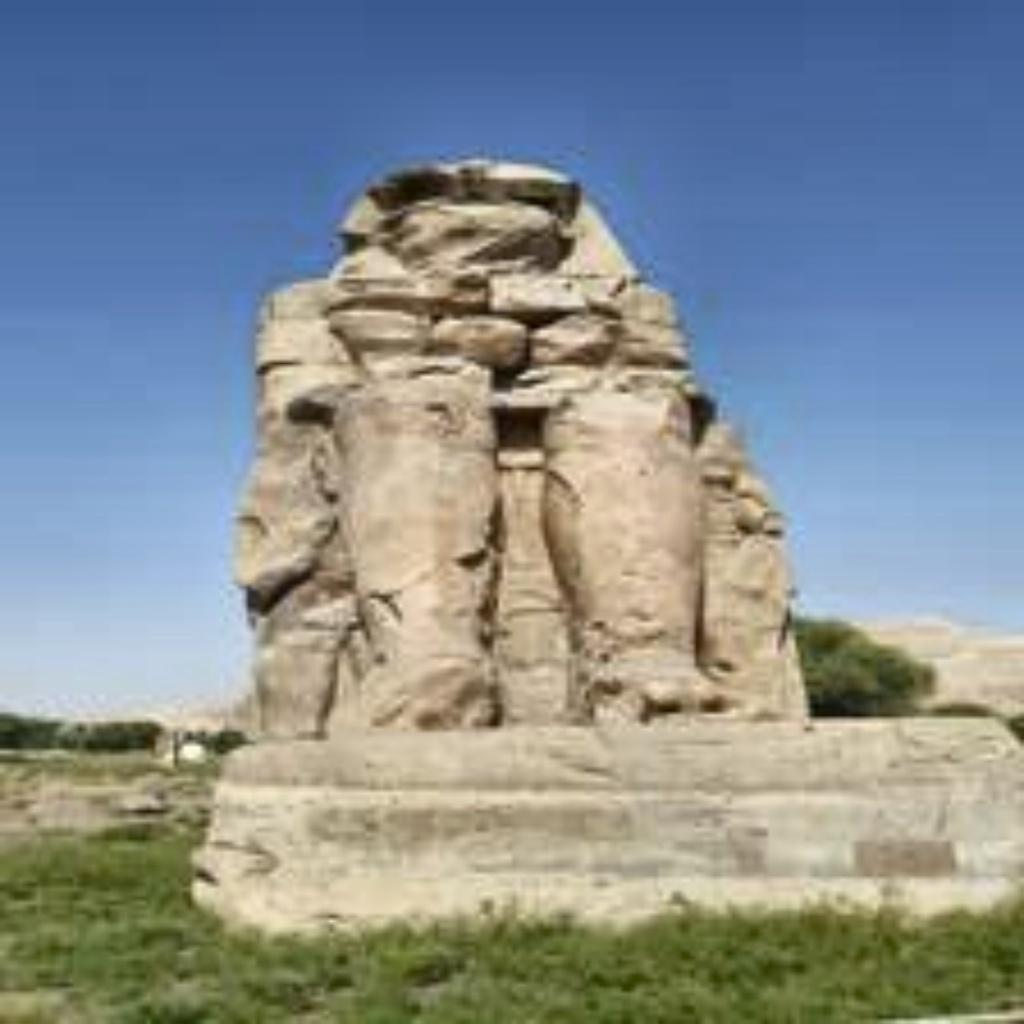Colossoi of Memnon: (146, 0, 1020, 1019)
